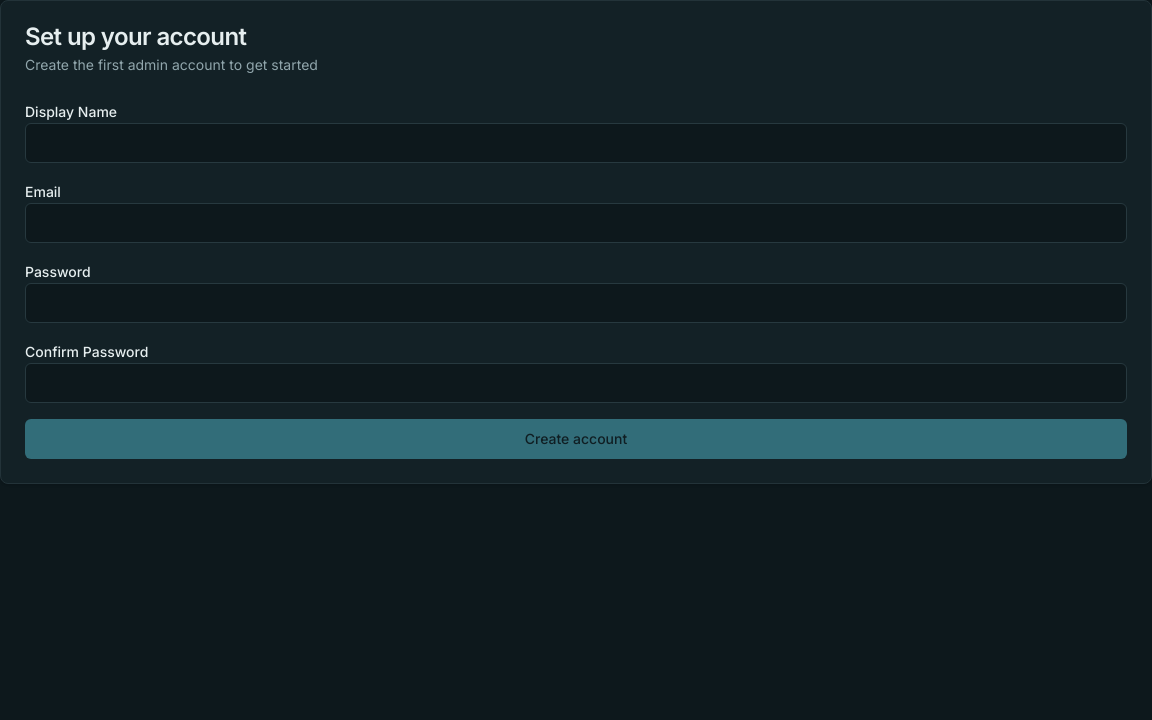
Test: RegisterForm (first-run setup) › mismatch error clears when confirm password is corrected
The image size is (1152, 720).
Type "SecurePass1!" into the password field labelled "Password" at (576, 303), box [25,283,1127,323]
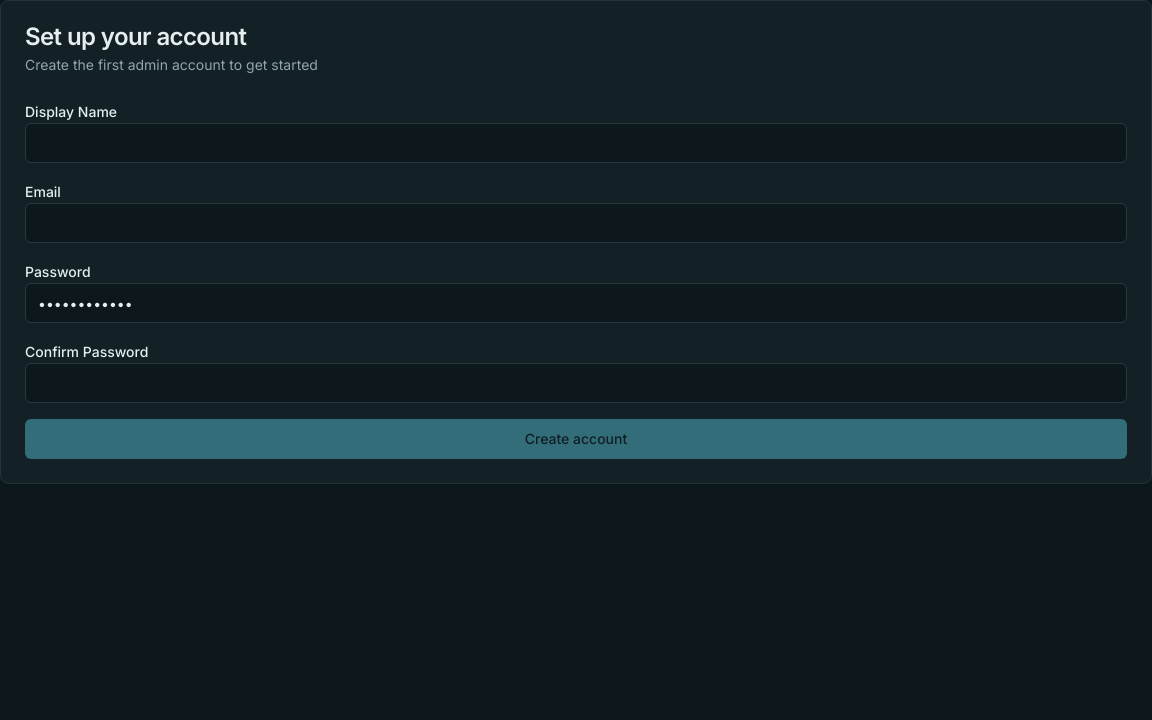
Type "different" into the password field labelled "Confirm Password" at (576, 383), box [25,363,1127,403]
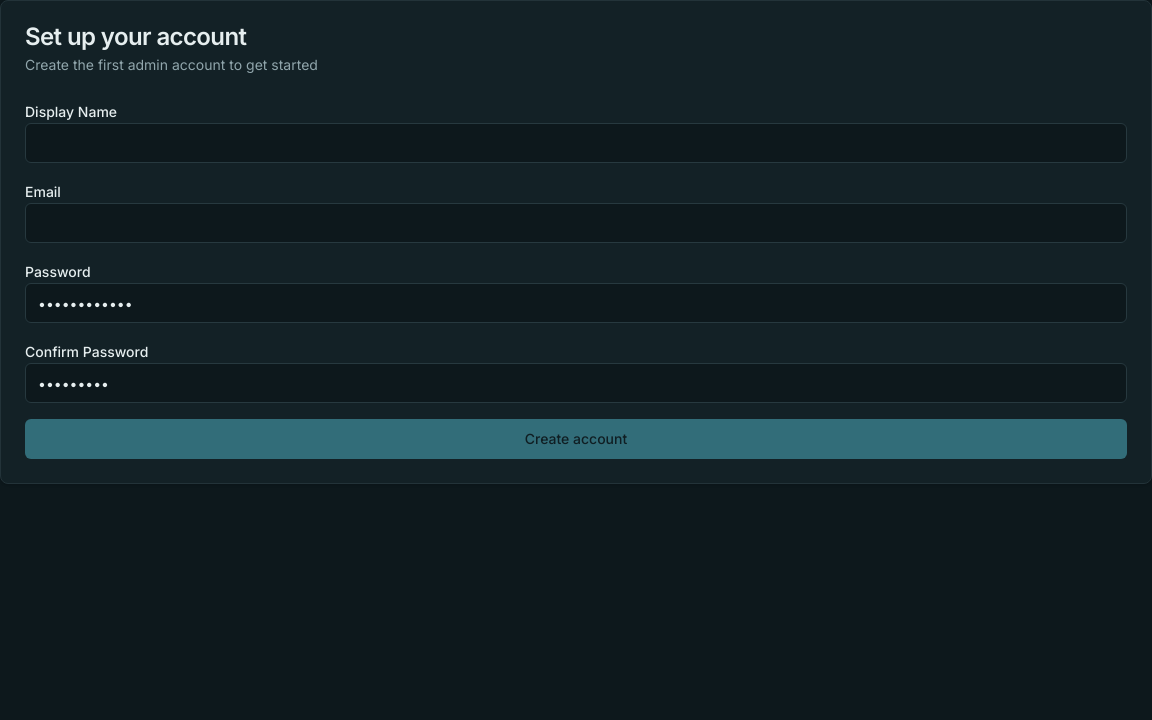
Leave the password field labelled "Confirm Password", box [25,363,1127,403]
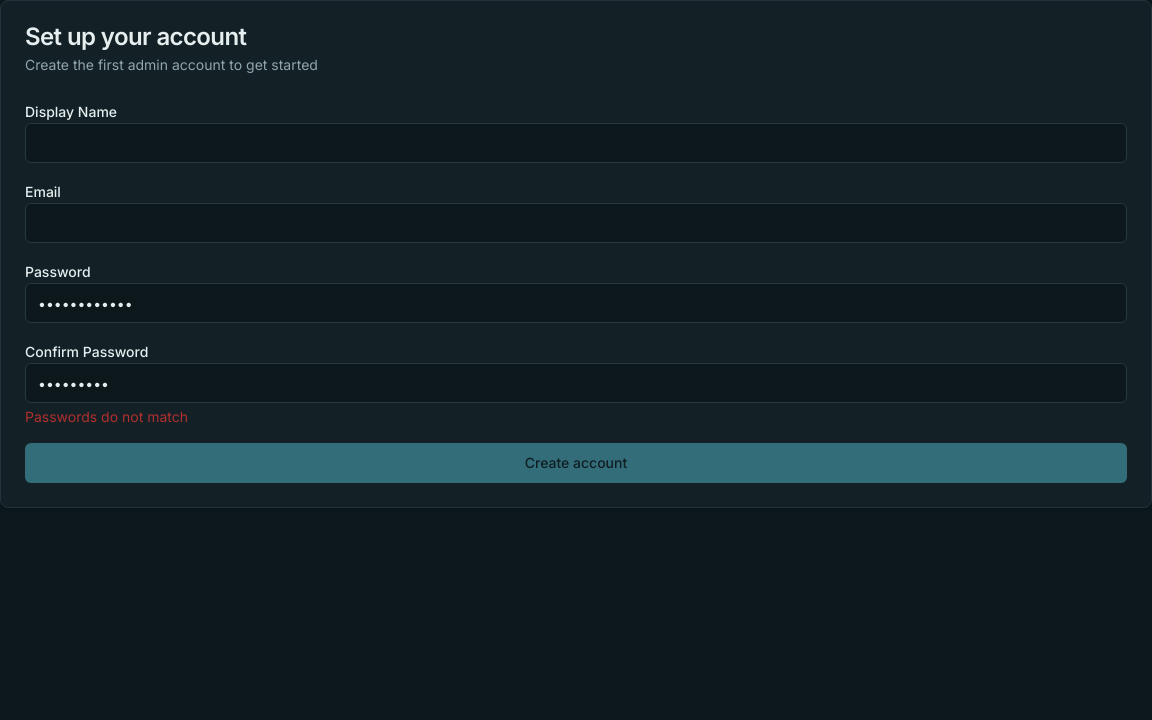
Expected: the message "Passwords do not match" is shown, [25,408,188,425]
Type "SecurePass1!" into the password field labelled "Confirm Password" at (576, 383), box [25,363,1127,403]
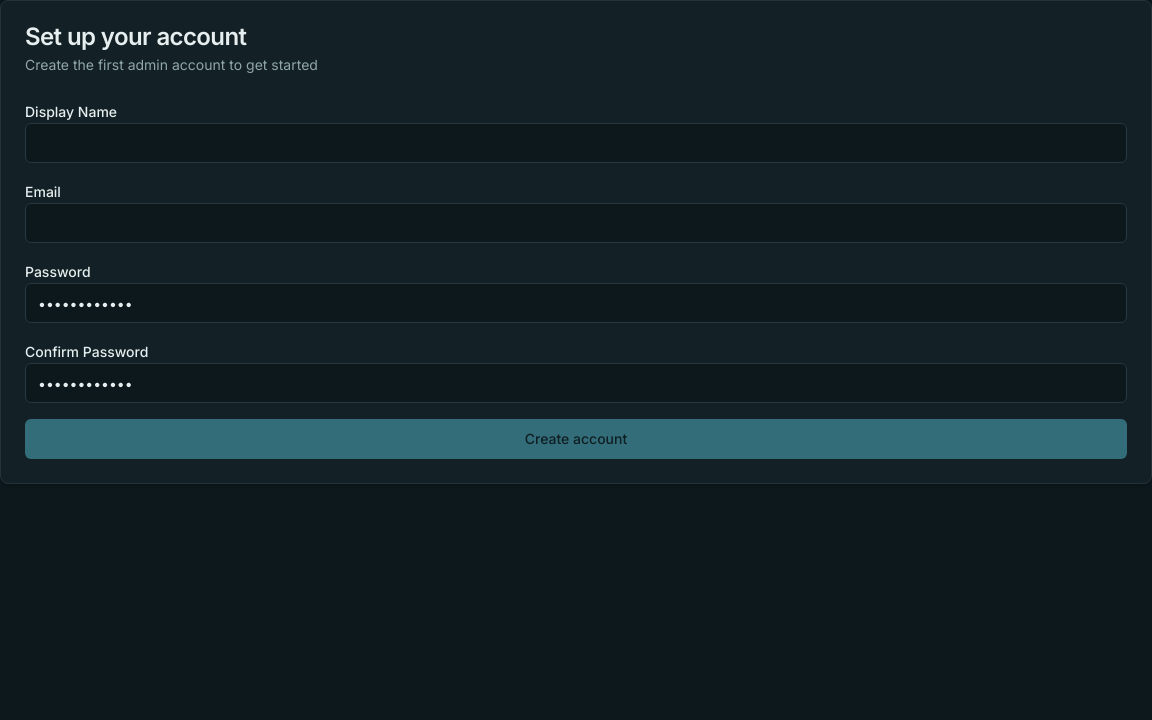
Expected: the message "Passwords do not match" is gone
